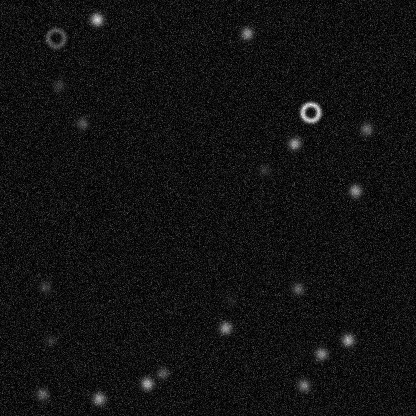Ring: (298, 100, 322, 124), (43, 25, 67, 49)
Spot: (289, 280, 305, 296), (358, 121, 374, 137), (313, 345, 329, 361), (286, 135, 302, 151), (139, 375, 155, 391), (42, 332, 58, 348), (222, 292, 238, 308), (347, 182, 363, 198), (295, 377, 311, 393), (256, 162, 272, 178), (238, 25, 254, 41), (217, 319, 233, 335), (50, 77, 66, 93), (339, 331, 355, 347), (74, 115, 90, 131), (154, 364, 170, 380), (88, 11, 104, 27), (90, 390, 106, 406), (34, 386, 50, 402), (36, 278, 52, 294)
